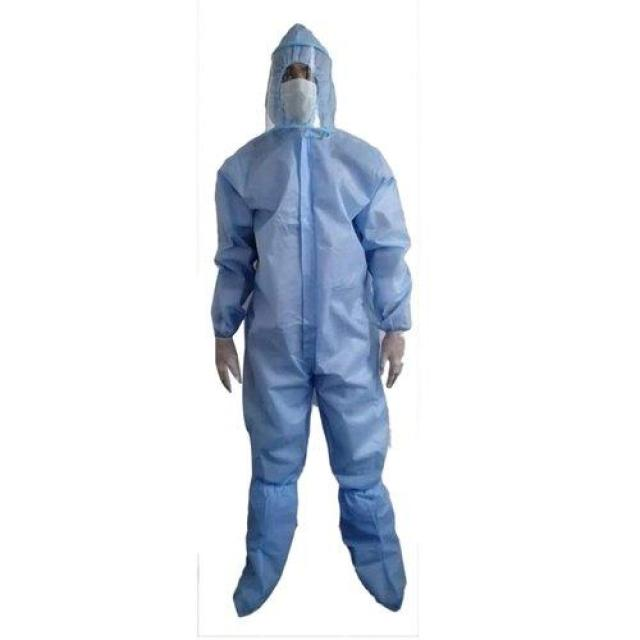Coverall: (188, 10, 467, 639)
Gloves: (200, 325, 264, 405), (359, 333, 437, 393)
